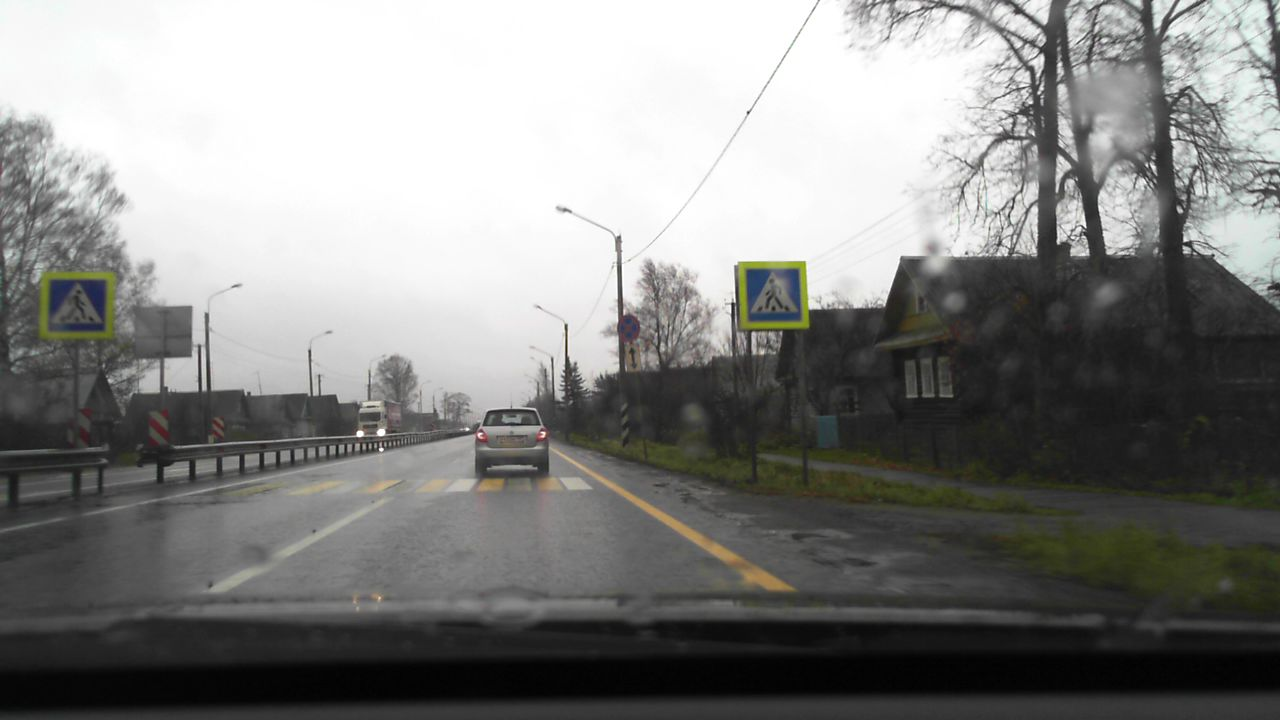No Parking: (616, 314, 640, 341)
